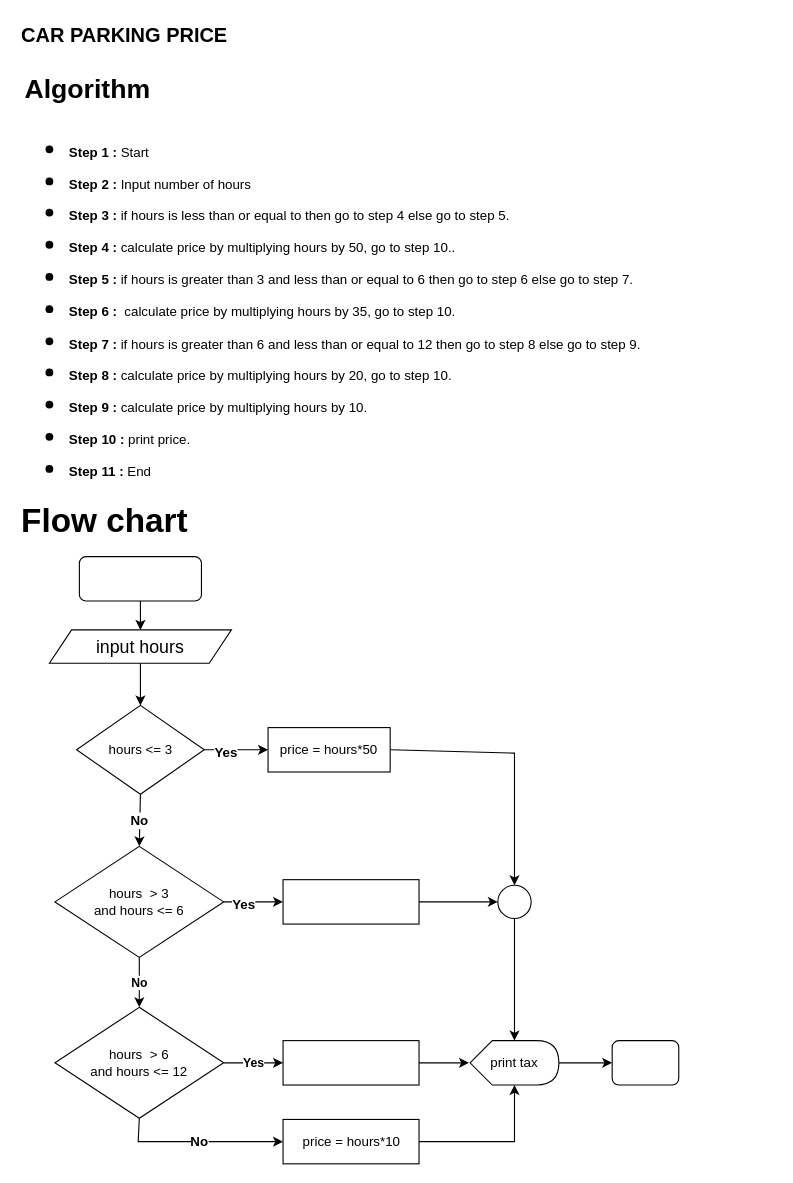
Some shapes in this 793 by 1183 pixel diagram are drawn without their labels. Here are the shapes that lost their labels. From the top down, the box of each, then its label:
(78, 556, 201, 601): Start
(282, 879, 419, 924): price = hours*35
(282, 1040, 419, 1085): price = hours*20
(611, 1040, 679, 1085): End
